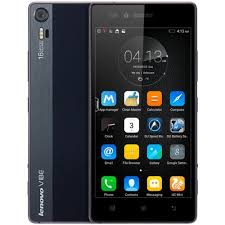lenovo: (85, 1, 198, 225)
